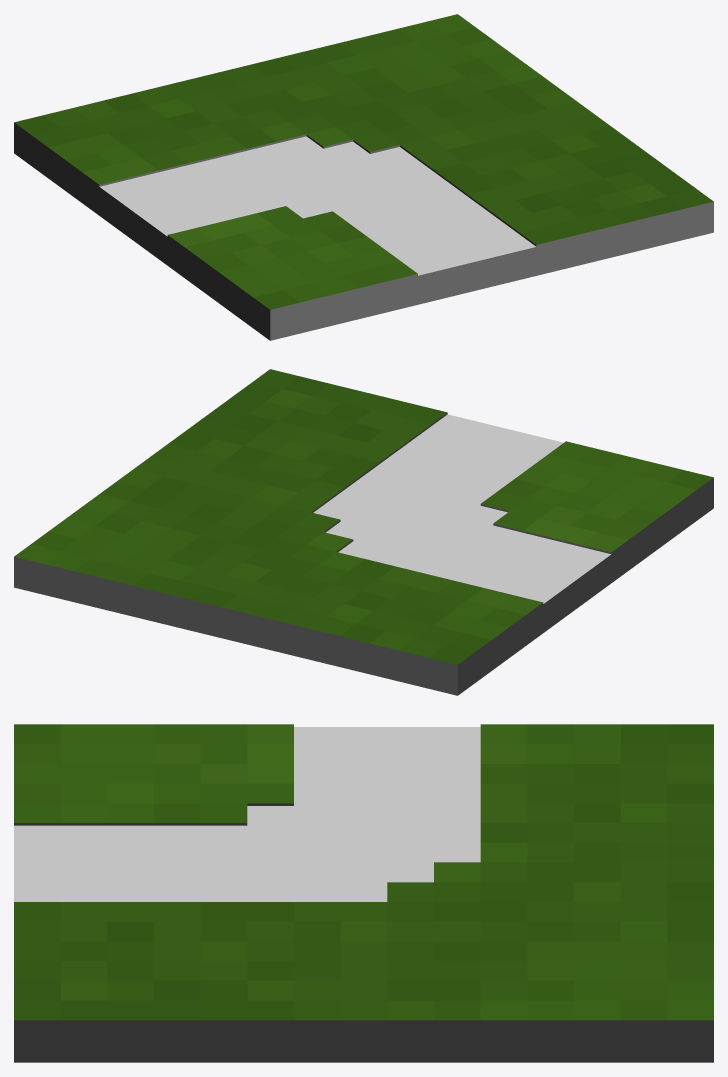
The model's file is Corner.fbx.
3 views of the same model, one above another, from view 1: azimuth 30°, elevation 25°; view 2: azimuth 150°, elevation 25°; view 3: azimuth 270°, elevation 25° (orthographic). The views are drawn at different scales.
Visible parts, largest first — view 1: node_2, node_1; view 2: node_1, node_2; view 3: node_1, node_2.
Part boxes in pixels (x1=…): node_2: x1=150, y1=114, x2=713, y2=340; node_1: x1=14, y1=14, x2=593, y2=252; node_1: x1=14, y1=456, x2=594, y2=695; node_2: x1=151, y1=369, x2=713, y2=595; node_1: x1=340, y1=724, x2=713, y2=1062; node_2: x1=14, y1=724, x2=340, y2=1062.
Bounding box in the file's own units: 1500 × 100 × 1500.
